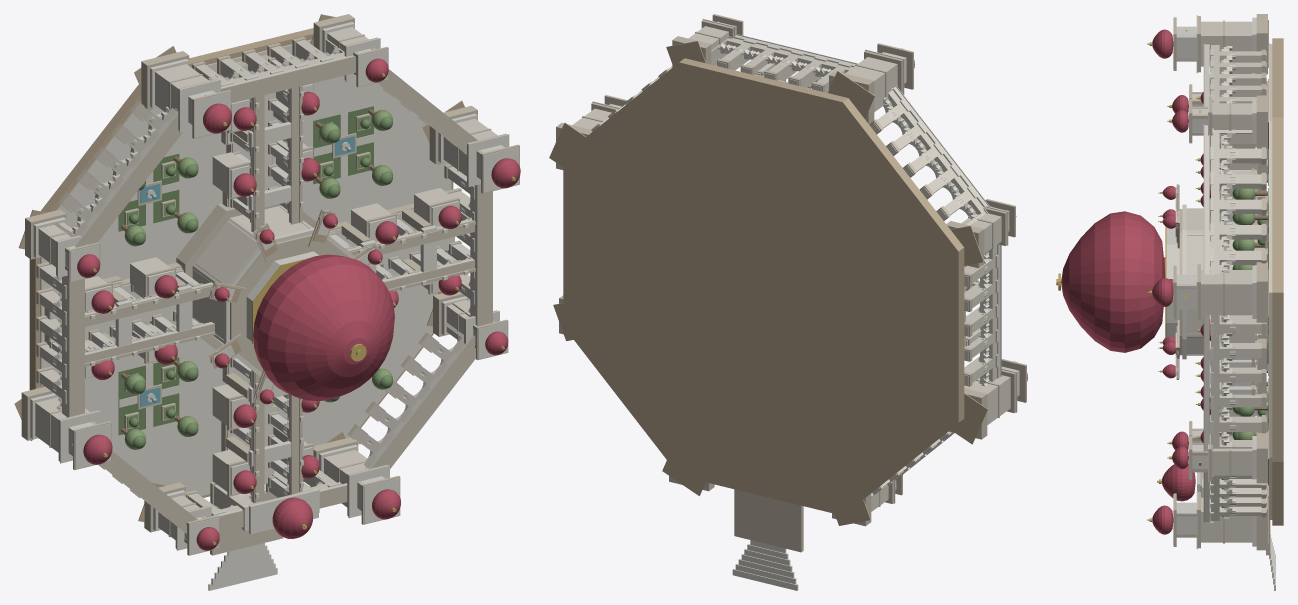
File: arabian_palace_v12.glb
The picture shows the model from 3 angles, left to right: view 1: azimuth 30°, elevation 25°; view 2: azimuth 150°, elevation 25°; view 3: azimuth 270°, elevation 25°; orthographic projection. The views are drawn at different scales.
Visible parts, largest first — view 1: Thin ivory foundation trim, Great central crimson dome, Central keep main body, Main sandstone foundation, Central keep roof terrace, Outer wall stone roof trim_3, Outer wall stone roof trim_7, Outer wall stone roof trim, Outer wall stone roof trim_4, Outer wall stone roof trim_2, Outer wall stone roof trim_1, Outer wall stone roof trim_5 (+43 smaller); view 2: Main sandstone foundation, Gate entrance landing, Main tower 3 shaft, Main tower 5 shaft, V12 tower foundation transition 3, V12 tower foundation transition 5, V12 tower foundation transition 1, Secondary tower 4 shaft, V12 tower foundation transition 4, Outer wall upper band_3, V12 tower foundation transition 2; view 3: Great central crimson dome, Main sandstone foundation, Main tower 1 shaft, Central keep main body, Main tower 3 shaft, Main ivory foundation, Main tower 7 shaft, Secondary tower 2 shaft, Secondary tower 8 shaft, Great dome ivory drum, Gate crimson dome, Outer wall upper band_1 (+37 smaller).
Boxes of the visible parts, x1,y1,x2,y2 form: Thin ivory foundation trim: (40, 39, 451, 495); Great central crimson dome: (253, 254, 394, 401); Central keep main body: (192, 205, 312, 344); Main sandstone foundation: (29, 28, 453, 497); Central keep roof terrace: (230, 234, 349, 372); Outer wall stone roof trim_3: (75, 114, 183, 247); Outer wall stone roof trim_7: (372, 336, 475, 468); Outer wall stone roof trim: (476, 184, 492, 326); Outer wall stone roof trim_4: (68, 279, 84, 416); Outer wall stone roof trim_2: (221, 56, 355, 102); Outer wall stone roof trim_1: (377, 69, 477, 154); Outer wall stone roof trim_5: (100, 451, 197, 533); Main sandstone foundation: (563, 58, 964, 515); Gate entrance landing: (734, 489, 803, 552); Main tower 3 shaft: (845, 57, 897, 111); Main tower 5 shaft: (964, 375, 1010, 424); V12 tower foundation transition 3: (828, 71, 874, 118); V12 tower foundation transition 5: (950, 393, 987, 444); V12 tower foundation transition 1: (549, 122, 585, 166); Secondary tower 4 shaft: (961, 213, 1001, 253); V12 tower foundation transition 4: (951, 225, 983, 265); Outer wall upper band_3: (893, 86, 988, 207); V12 tower foundation transition 2: (666, 41, 705, 66); Great central crimson dome: (1061, 211, 1165, 352); Main sandstone foundation: (1272, 38, 1283, 525); Main tower 1 shaft: (1201, 270, 1252, 314); Central keep main body: (1186, 208, 1238, 355); Main tower 3 shaft: (1201, 21, 1252, 66); Main ivory foundation: (1270, 44, 1272, 519); Main tower 7 shaft: (1201, 497, 1252, 542); Secondary tower 2 shaft: (1212, 103, 1252, 138); Secondary tower 8 shaft: (1212, 440, 1252, 475); Great dome ivory drum: (1166, 227, 1179, 337); Gate crimson dome: (1161, 464, 1195, 501); Outer wall upper band_1: (1204, 125, 1209, 274).
Size of the model in its own units: 176 by 202 by 80.15.
